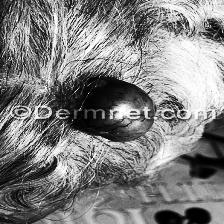Benign Marking or Mole: (71, 79, 159, 141)
